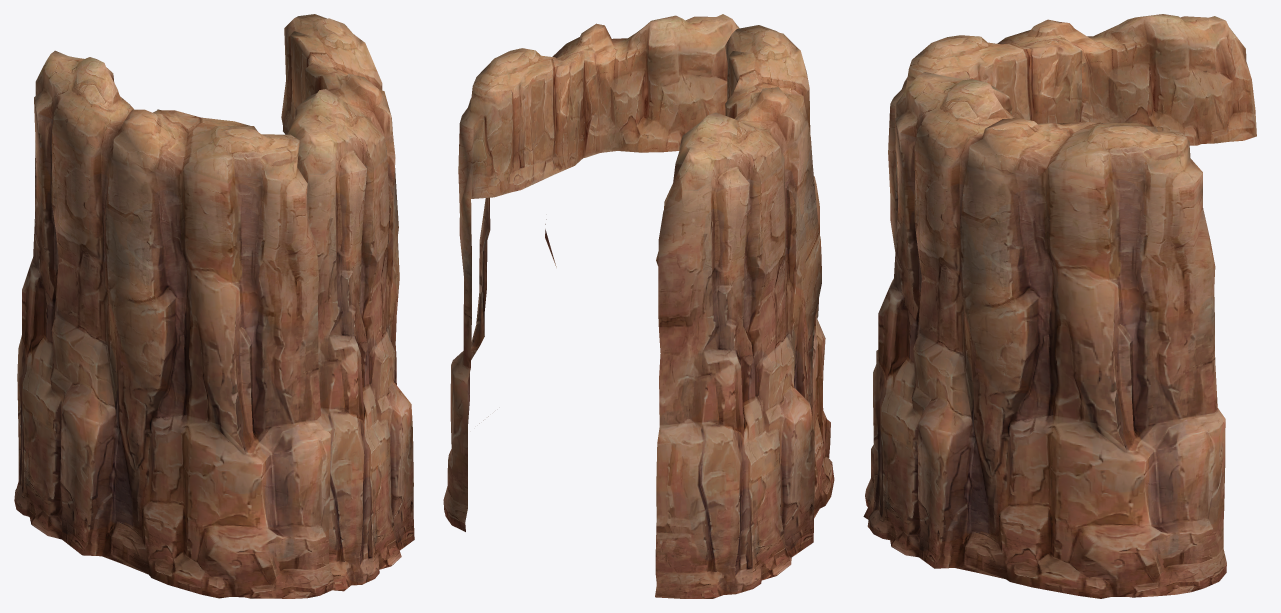
File: kor_wilds_cliff_40m_small_90.glb
3 views of the same model, side by side, from view 1: azimuth 30°, elevation 25°; view 2: azimuth 150°, elevation 25°; view 3: azimuth 270°, elevation 25° (orthographic). The views are drawn at different scales.
Parts seen in each view (by area): view 1: kor_wilds_cliff_40m_small_90; view 2: kor_wilds_cliff_40m_small_90; view 3: kor_wilds_cliff_40m_small_90.
Boxes of the visible parts, <box> form: kor_wilds_cliff_40m_small_90: <box>14,14,414,598</box>; kor_wilds_cliff_40m_small_90: <box>443,14,834,598</box>; kor_wilds_cliff_40m_small_90: <box>863,14,1256,598</box>.
Size of the model in its own units: 3.4 by 4.35 by 3.52.
Materials: 1 (1 with a texture image).
